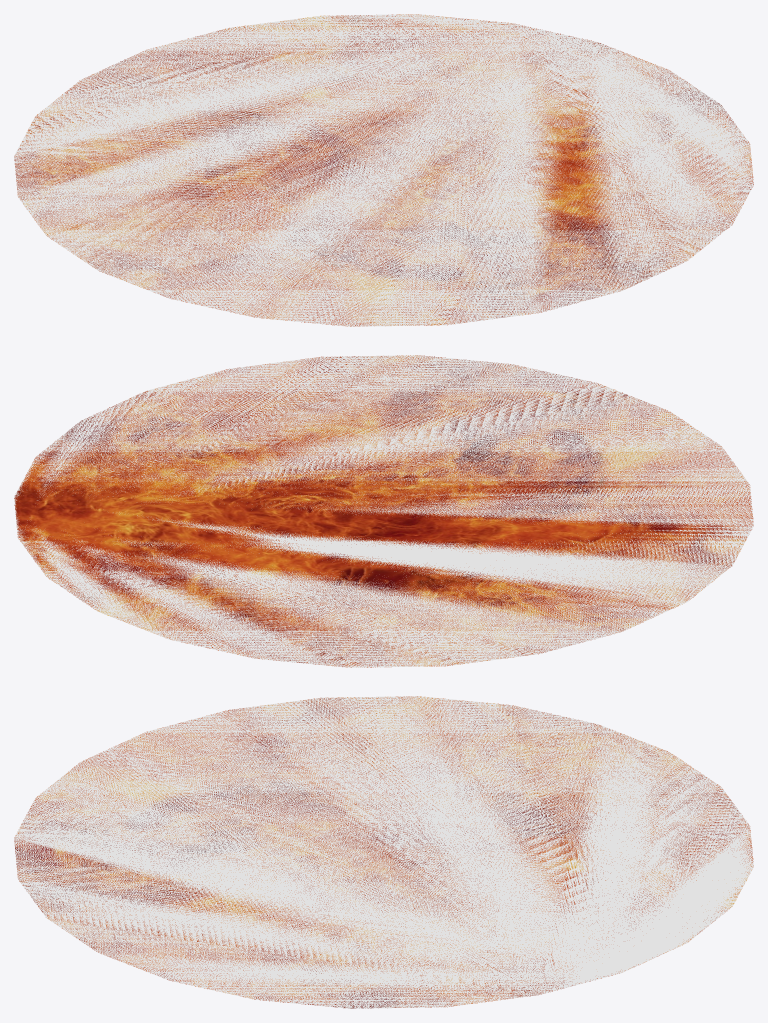
Rendered from fire_marker.dae.
The picture shows the model from 3 angles, top to bottom: view 1: azimuth 30°, elevation 25°; view 2: azimuth 150°, elevation 25°; view 3: azimuth 270°, elevation 25°; orthographic projection.
Parts seen in each view (by area): view 1: SketchUp; view 2: SketchUp; view 3: SketchUp.
Part boxes in pixels (<box>): SketchUp: <box>14,14,753,326</box>; SketchUp: <box>14,355,753,667</box>; SketchUp: <box>14,696,753,1008</box>.
Size of the model in its own units: 31.36 by 31.36 by 0.
2 materials, 1 textured.
